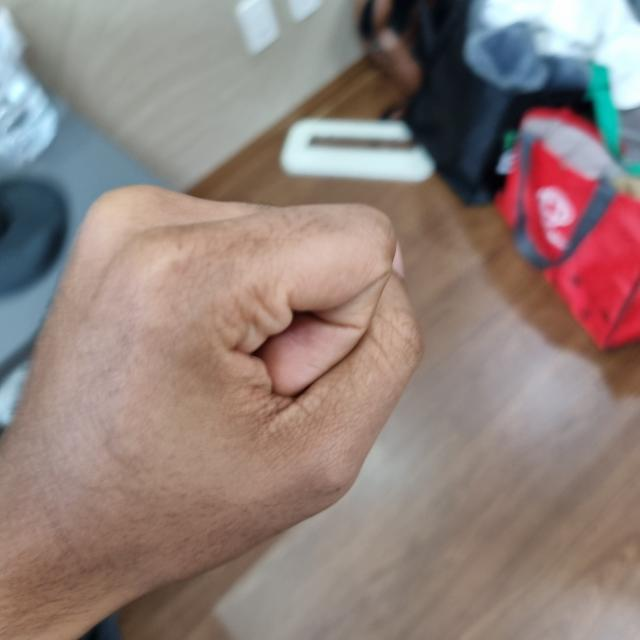Rock: (3, 186, 417, 583)
